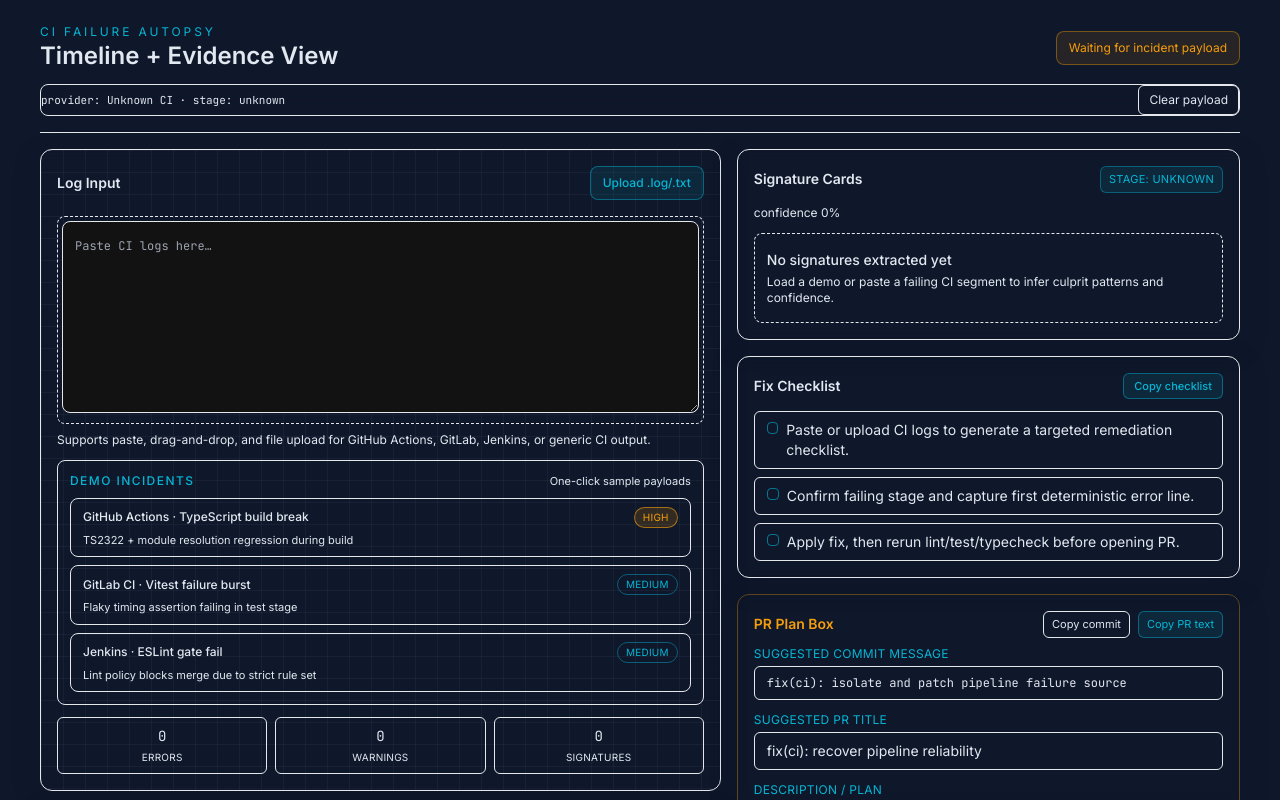
Test: Shell › loads demo incidents with one click
Step 1. Click the button "GitHub Actions · TypeScript build break" → (196, 516), box [70, 498, 691, 557]
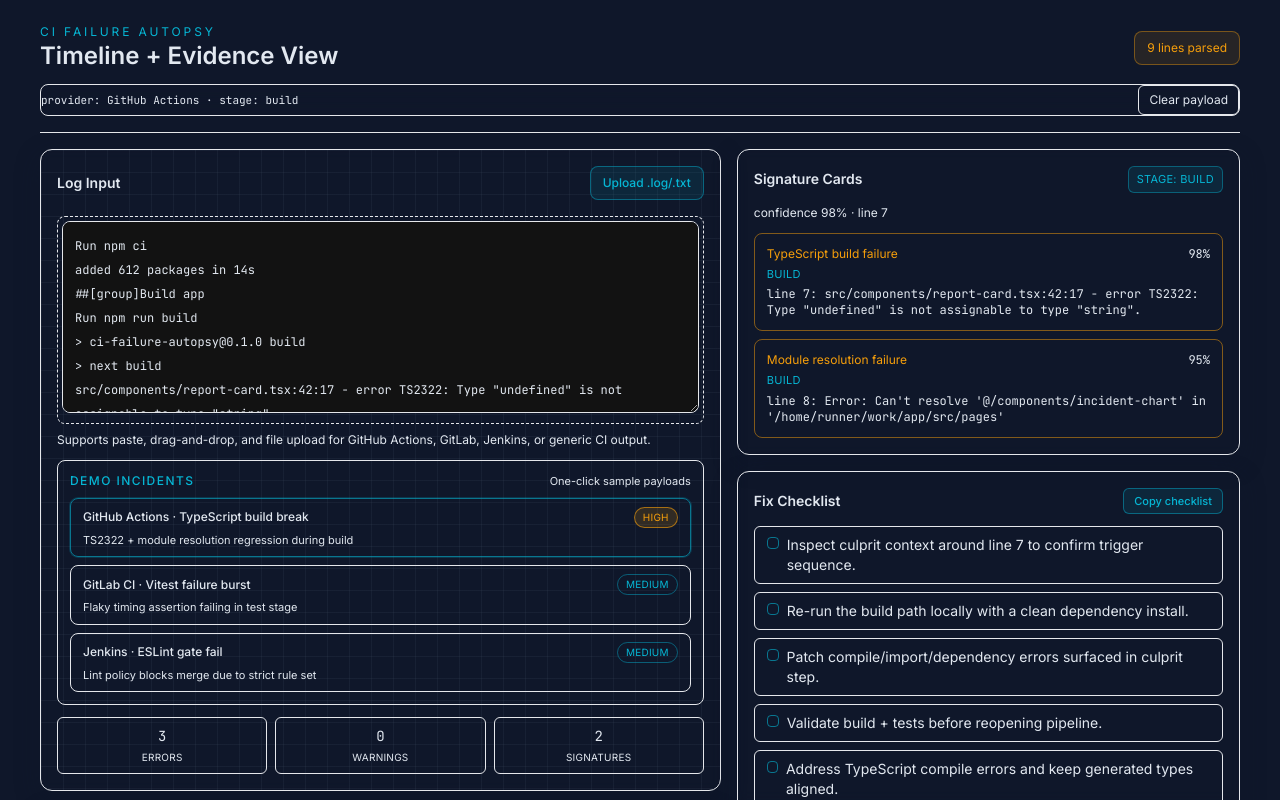
Result: the text "9 lines parsed" is shown at [1134, 31, 1240, 65]
Result: the text "TypeScript build failure" is shown at [767, 246, 898, 262]
